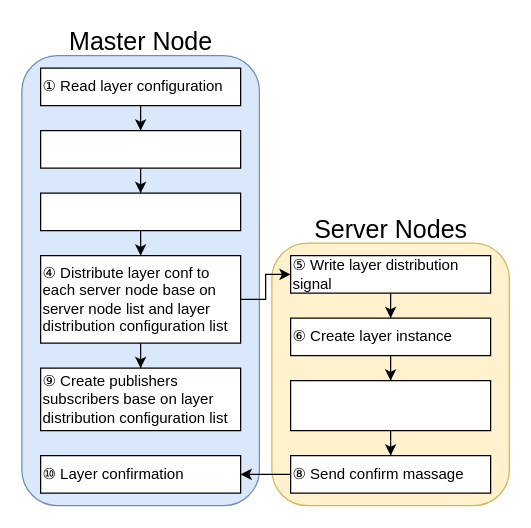
The diagram is 531 pixels wide and 528 high, and some of its shapes have lost their labels. The shapes that lost their labels are listed below. From the top down, each one's centre as x and y in pixels, then its label:
the point at 140,148: ② Read model configuration
the point at 140,211: ③ Create layer distribution configuration list
the point at 390,405: ⑦ Create publishers and subscribers
